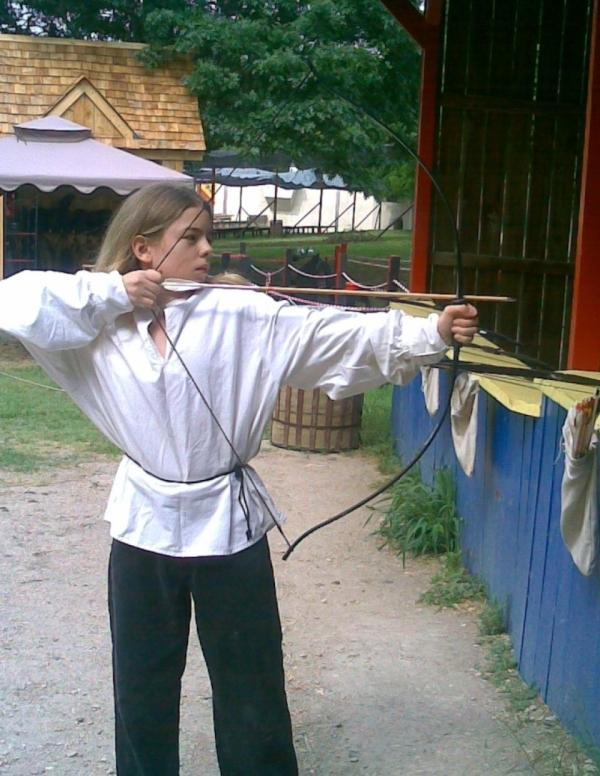person: (3, 183, 480, 775)
